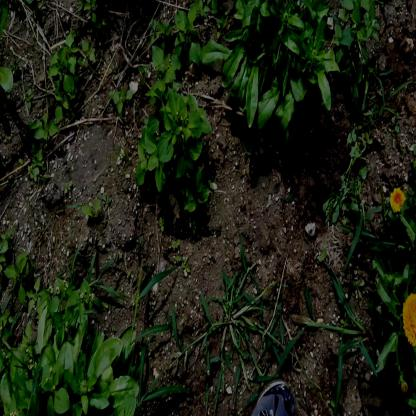marigold: (402, 294, 416, 346)
